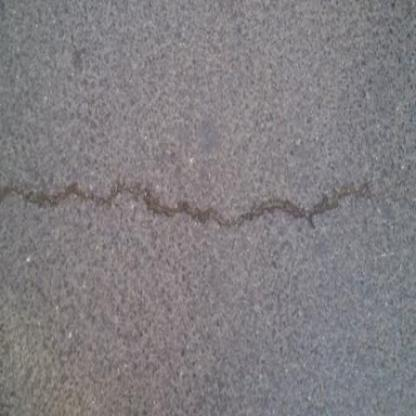Cracks: (0, 175, 375, 234)
